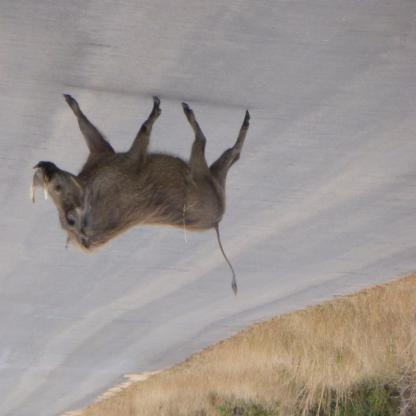boar: (30, 93, 250, 297)
